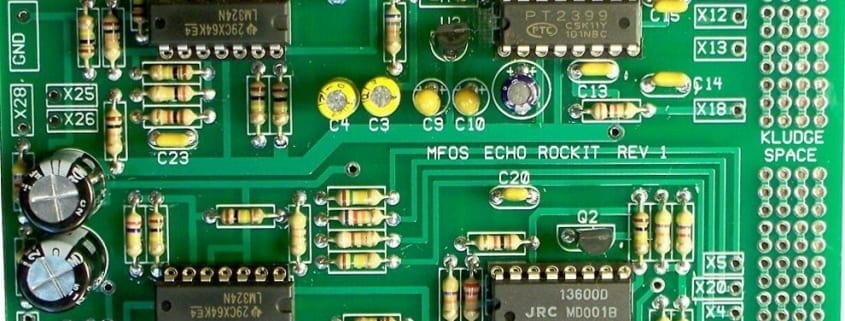capacitor: (17, 141, 109, 234), (14, 226, 108, 314), (310, 76, 365, 135), (359, 70, 408, 136), (498, 61, 545, 123)
